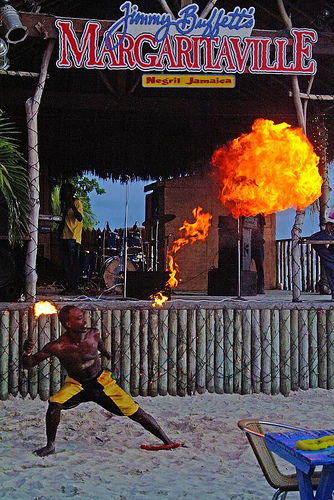fire: (204, 111, 334, 207)
